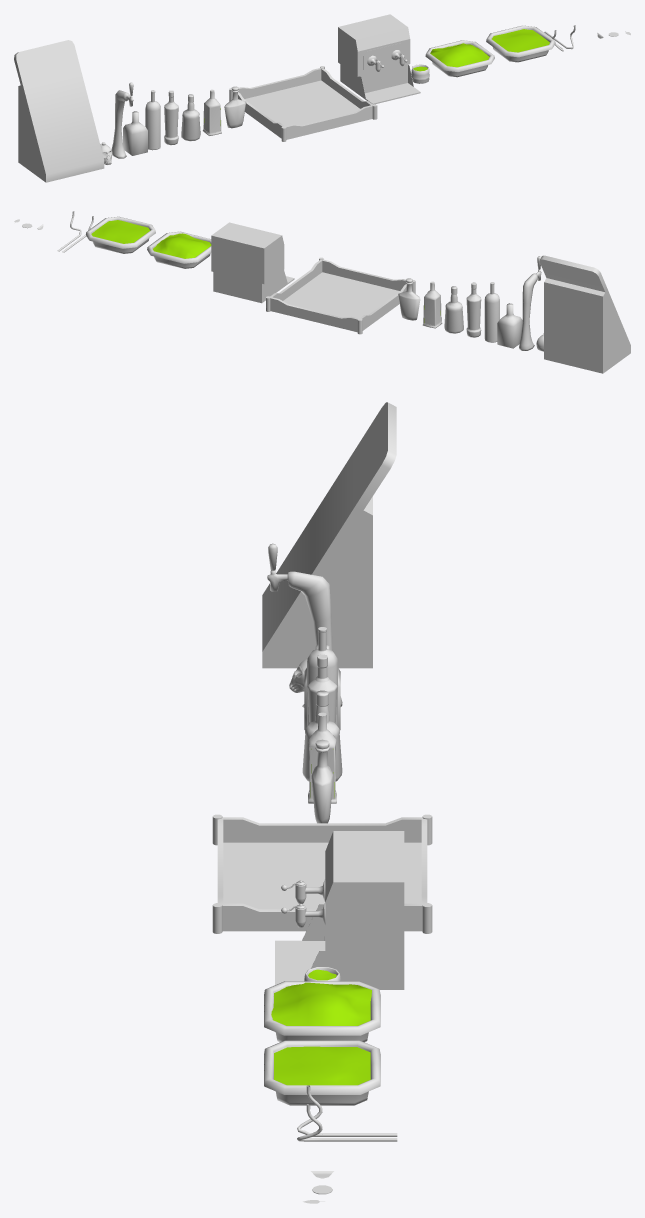
File: Essentials v3.fbx
3 views of the same model, one above another, from view 1: azimuth 30°, elevation 25°; view 2: azimuth 150°, elevation 25°; view 3: azimuth 270°, elevation 25° (orthographic). The views are drawn at different scales.
Parts seen in each view (by area): view 1: Plane.003, Glass Rack, Soda Tap, Container.001, Sink, Triple Sec, Beer Tap, White Wine, Gin, Rum, Vodka, Tequila (+1 smaller); view 2: Plane.003, Glass Rack, Soda Tap, Sink, Container.001, Beer Tap, Triple Sec, White Wine, Gin, Rum, Vodka, Tequila; view 3: Plane.003, Glass Rack, Soda Tap, Sink, Container.001, Beer Tap, Tequila, Rum, Gin, Vodka.
Part boxes in pixels (<box>): Plane.003: <box>14,40,104,182</box>; Glass Rack: <box>229,66,377,141</box>; Soda Tap: <box>338,14,420,104</box>; Container.001: <box>425,40,494,77</box>; Sink: <box>486,25,555,62</box>; Triple Sec: <box>123,111,147,155</box>; Beer Tap: <box>111,82,133,158</box>; White Wine: <box>145,90,160,150</box>; Gin: <box>202,89,221,135</box>; Rum: <box>181,94,200,141</box>; Vodka: <box>164,90,178,145</box>; Tequila: <box>224,86,246,128</box>; Plane.003: <box>539,255,630,373</box>; Glass Rack: <box>266,257,415,334</box>; Soda Tap: <box>211,222,294,303</box>; Sink: <box>85,216,155,253</box>; Container.001: <box>147,231,211,268</box>; Beer Tap: <box>519,256,541,350</box>; Triple Sec: <box>497,303,522,348</box>; White Wine: <box>484,282,499,342</box>; Gin: <box>422,281,442,328</box>; Rum: <box>444,286,463,333</box>; Vodka: <box>466,282,481,337</box>; Tequila: <box>398,278,420,320</box>; Plane.003: <box>262,402,396,668</box>; Glass Rack: <box>212,814,432,933</box>; Soda Tap: <box>275,831,404,989</box>; Sink: <box>264,1040,380,1105</box>; Container.001: <box>264,981,380,1042</box>; Beer Tap: <box>267,543,342,707</box>; Tequila: <box>311,739,333,823</box>; Rum: <box>302,690,342,781</box>; Gin: <box>308,712,336,803</box>; Vodka: <box>307,654,337,723</box>.
Bounding box in the file's own units: 325 × 51.85 × 58.51.
